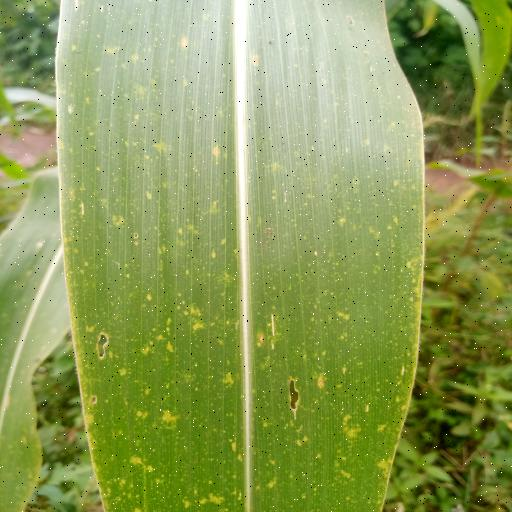Corn_Chlorotic_Leaf_Spot: (52, 0, 435, 512)
